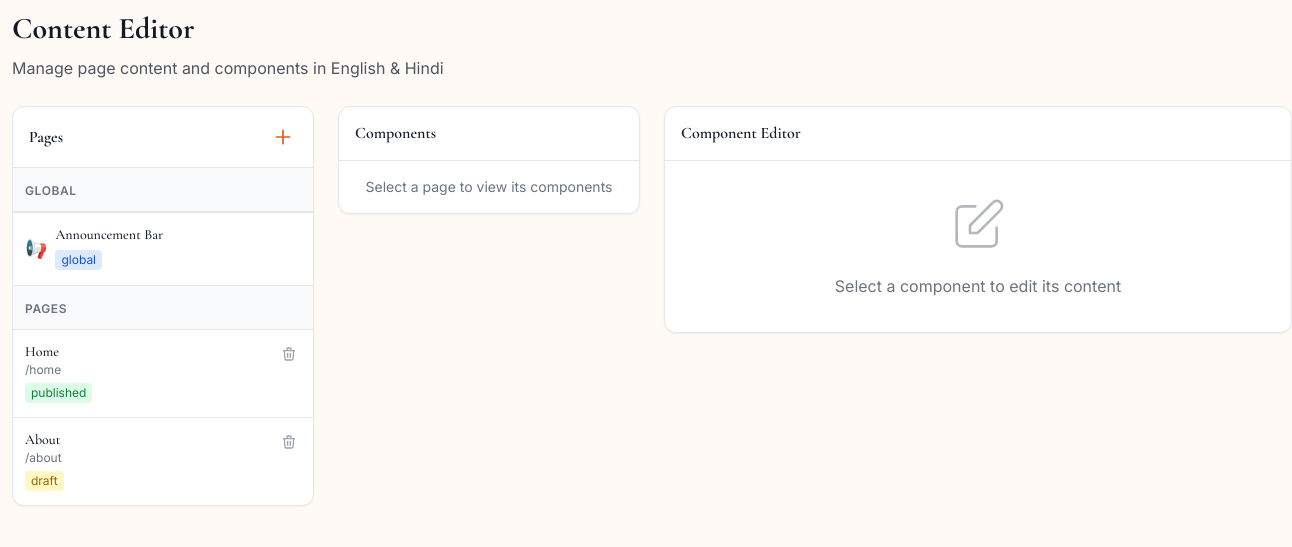
Test: CMSEditorPage - Global Components › clears global selection when selecting a page
Note: Select global component first
Click the heading "Announcement Bar".
click(109, 235)  # box 56,226 -> 163,243
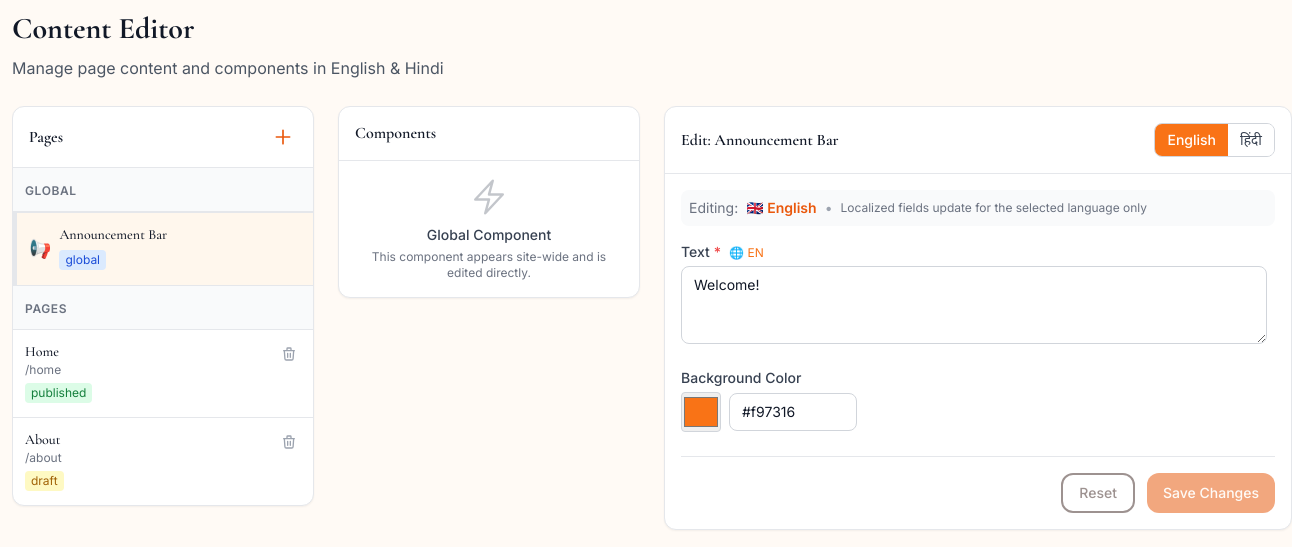
Now the text "Global Component" is shown, box 427,226 -> 551,243
Note: Now select a page
Click the heading "Home".
click(42, 351)  # box 25,343 -> 59,360
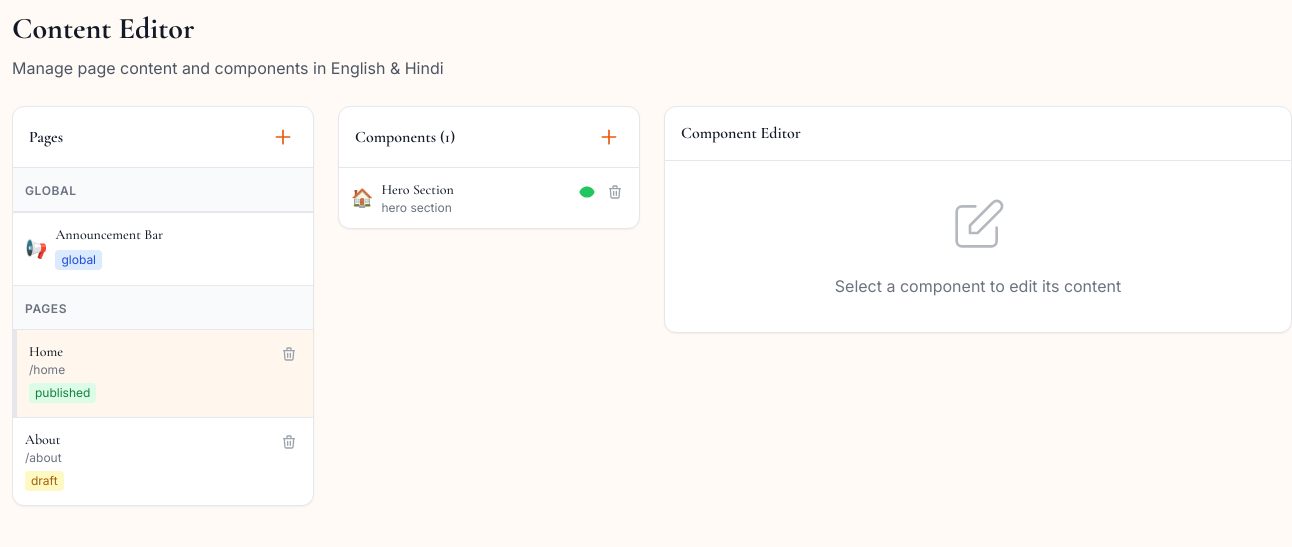
Now the text "Global Component" is gone
